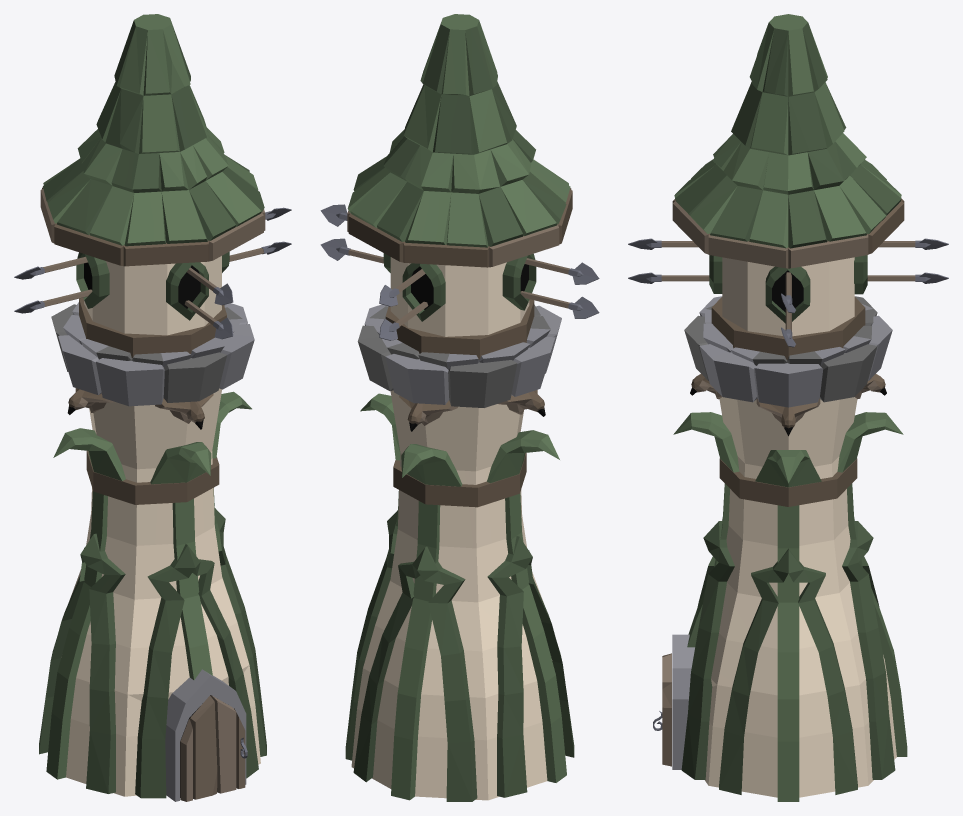
Rendered from _archer_tower_LVL_2.fbx.
The picture shows the model from 3 angles, left to right: view 1: azimuth 30°, elevation 25°; view 2: azimuth 150°, elevation 25°; view 3: azimuth 270°, elevation 25°; orthographic projection.
Visible parts, largest first — view 1: archer_tower_LVL_2; view 2: archer_tower_LVL_2; view 3: archer_tower_LVL_2.
Part boxes in pixels (<box>): archer_tower_LVL_2: <box>14,14,291,801</box>; archer_tower_LVL_2: <box>320,14,599,801</box>; archer_tower_LVL_2: <box>628,14,948,801</box>.
Size of the model in its own units: 595 by 1494 by 595.
